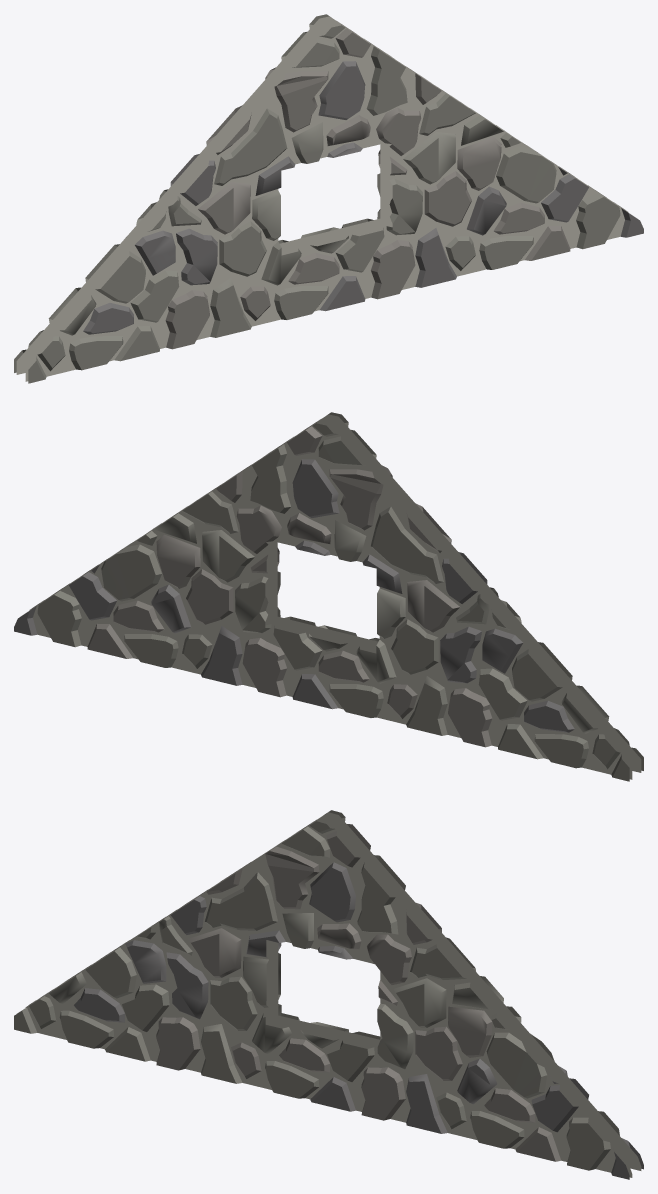
Rendered from rpgpp_ag_roof_end_01_9x4_wall_window_04a.fbx.
3 views of the same model, one above another, from view 1: azimuth 30°, elevation 25°; view 2: azimuth 150°, elevation 25°; view 3: azimuth 330°, elevation 25° (orthographic).
Parts seen in each view (by area): view 1: rpgpp_ag_roof_end_01_9x4_wall_window_04a; view 2: rpgpp_ag_roof_end_01_9x4_wall_window_04a; view 3: rpgpp_ag_roof_end_01_9x4_wall_window_04a.
Boxes of the visible parts, x1,y1,x2,y2 form: rpgpp_ag_roof_end_01_9x4_wall_window_04a: [14, 14, 643, 383]; rpgpp_ag_roof_end_01_9x4_wall_window_04a: [14, 412, 643, 781]; rpgpp_ag_roof_end_01_9x4_wall_window_04a: [14, 810, 643, 1179].
Size of the model in its own units: 9 by 3.95 by 0.404.
